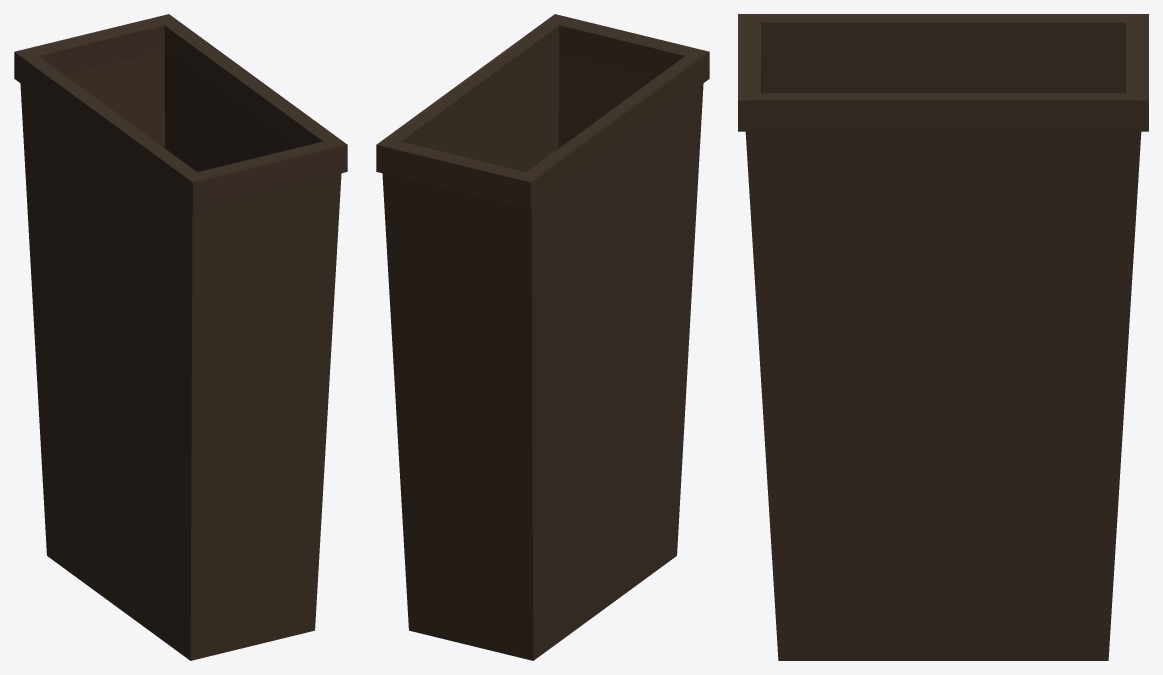
File: trashbin.glb
3 renders of one model, left to right at view 1: azimuth 30°, elevation 25°; view 2: azimuth 150°, elevation 25°; view 3: azimuth 270°, elevation 25°, orthographic. The views are drawn at different scales.
Visible parts, largest first — view 1: Cube; view 2: Cube; view 3: Cube.
Part boxes in pixels (x1,y1,x2,y2): Cube: (14, 14, 347, 660); Cube: (376, 14, 709, 660); Cube: (738, 14, 1148, 660).
Size of the model in its own units: 0.2635 by 0.8051 by 0.527.
